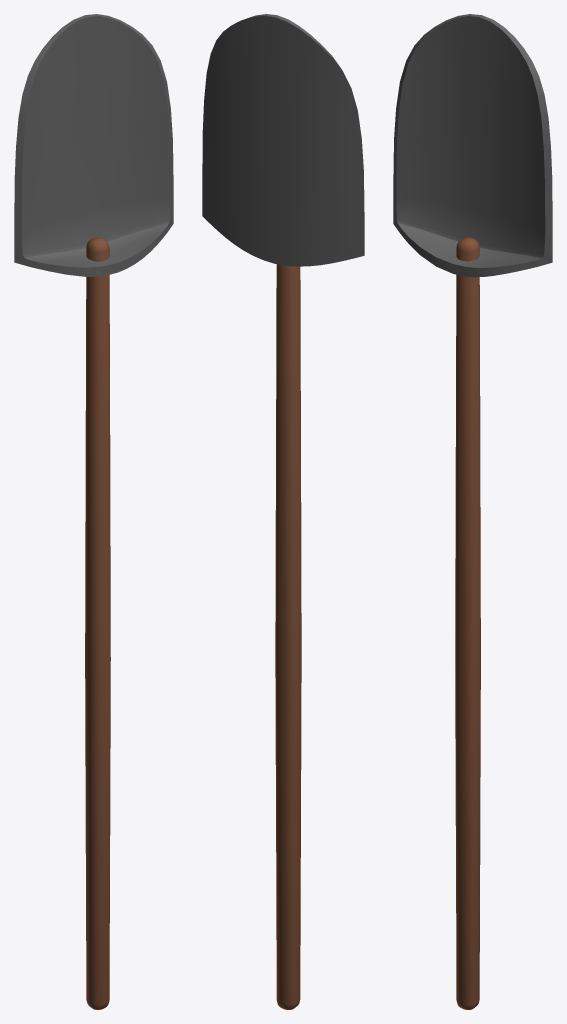
Rendered from Tool5.fbx.
The picture shows the model from 3 angles, left to right: view 1: azimuth 30°, elevation 25°; view 2: azimuth 150°, elevation 25°; view 3: azimuth 330°, elevation 25°; orthographic projection.
Visible parts, largest first — view 1: Cube.052; view 2: Cube.052; view 3: Cube.052.
Part boxes in pixels (x1=…): Cube.052: x1=14, y1=14, x2=173, y2=1009; Cube.052: x1=202, y1=14, x2=364, y2=1009; Cube.052: x1=393, y1=14, x2=552, y2=1009.
Size of the model in its own units: 0.3831 by 0.1014 by 2.26.
